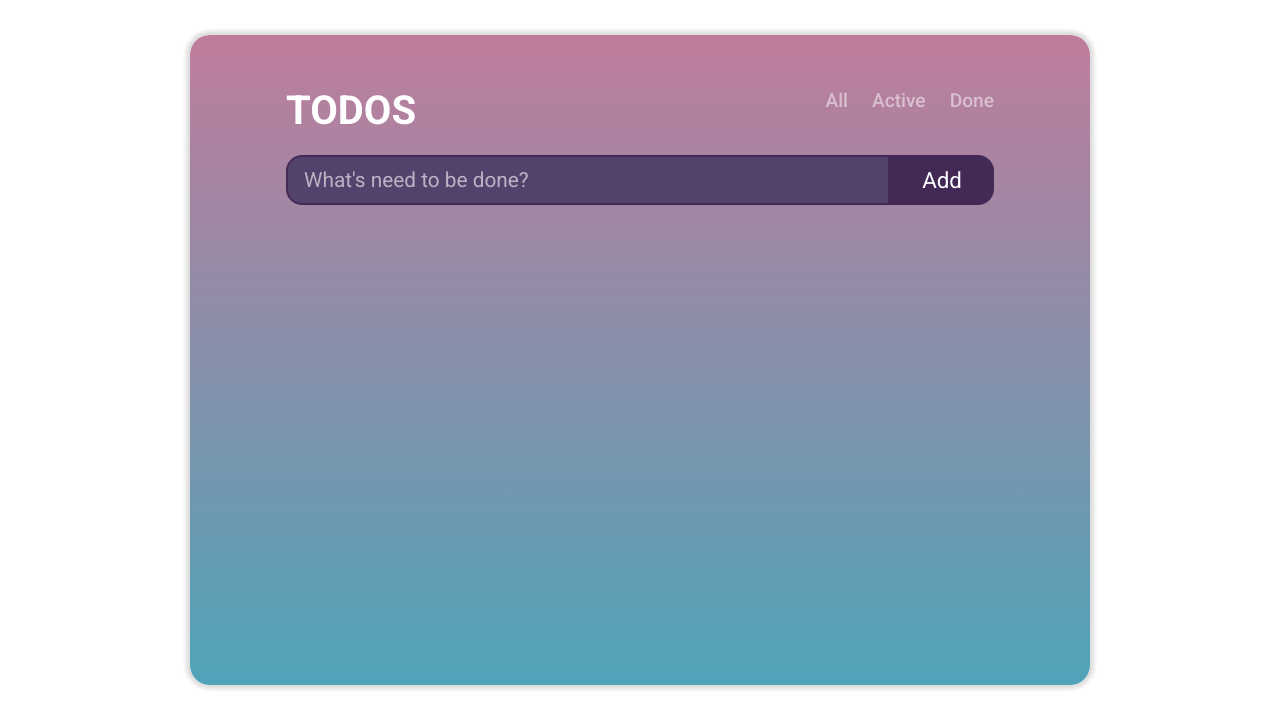
Navigation › List filtering
expect the text "Todo1" is not shown: met
Step 1. Type "Todo1" into the field with test id "add-todo-input" → point(588, 180), box x1=286 y1=155 x2=890 y2=205
Step 2. Click the button with test id "add-todo-btn" → point(942, 180), box x1=890 y1=155 x2=994 y2=205
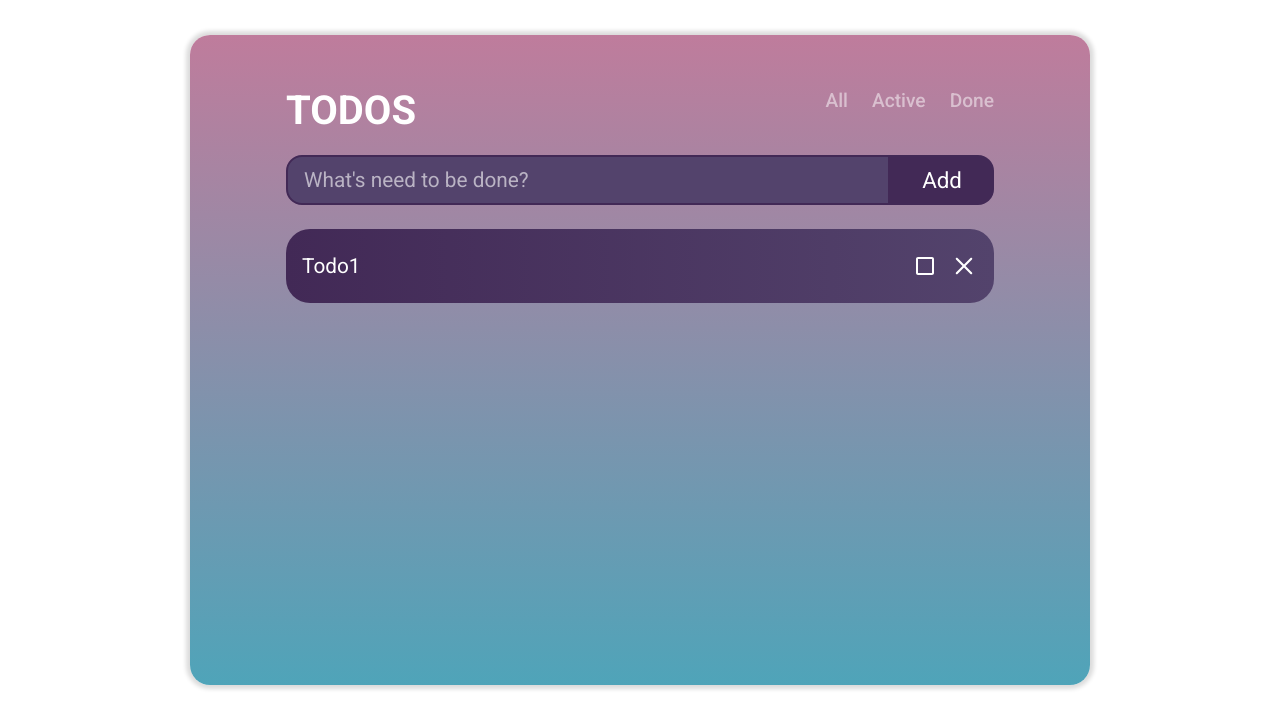
expect the text "Todo2" is not shown: met
expect the list item "Todo1" is shown: met, box x1=286 y1=229 x2=994 y2=303
Step 3. Type "Todo2" into the field with test id "add-todo-input" → point(588, 180), box x1=286 y1=155 x2=890 y2=205
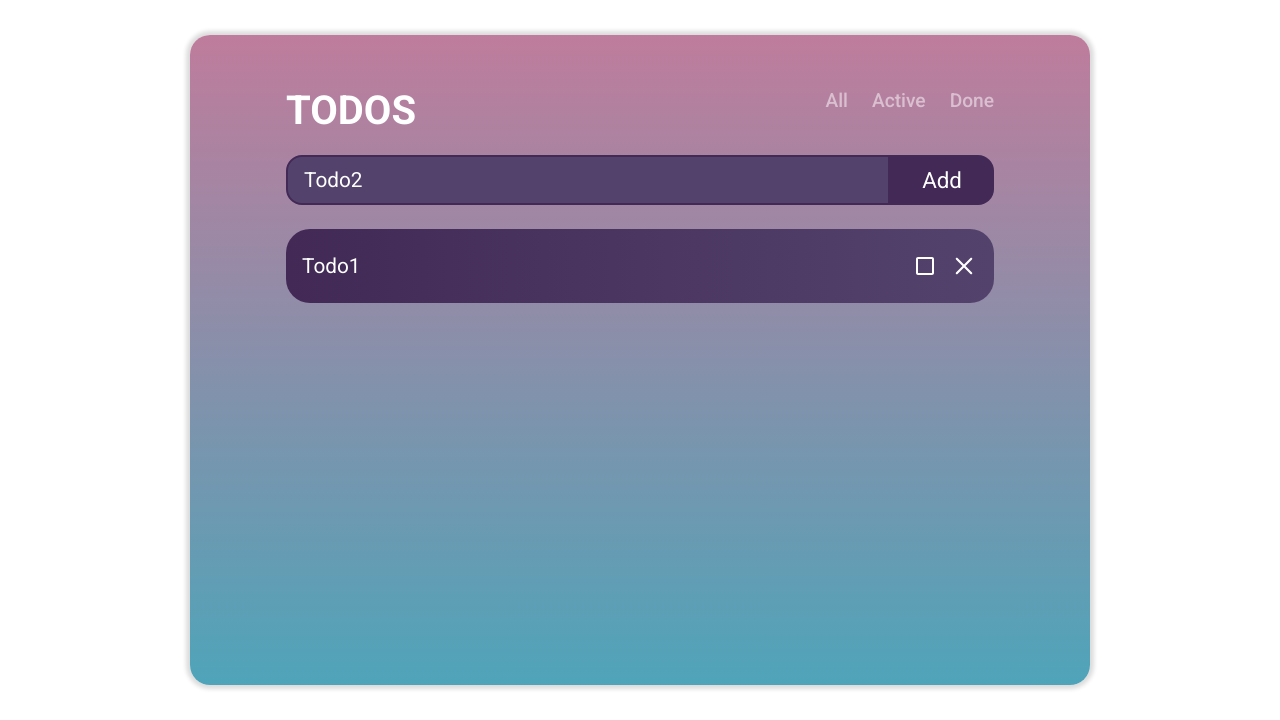
Step 4. Click the button with test id "add-todo-btn" → point(942, 180), box x1=890 y1=155 x2=994 y2=205
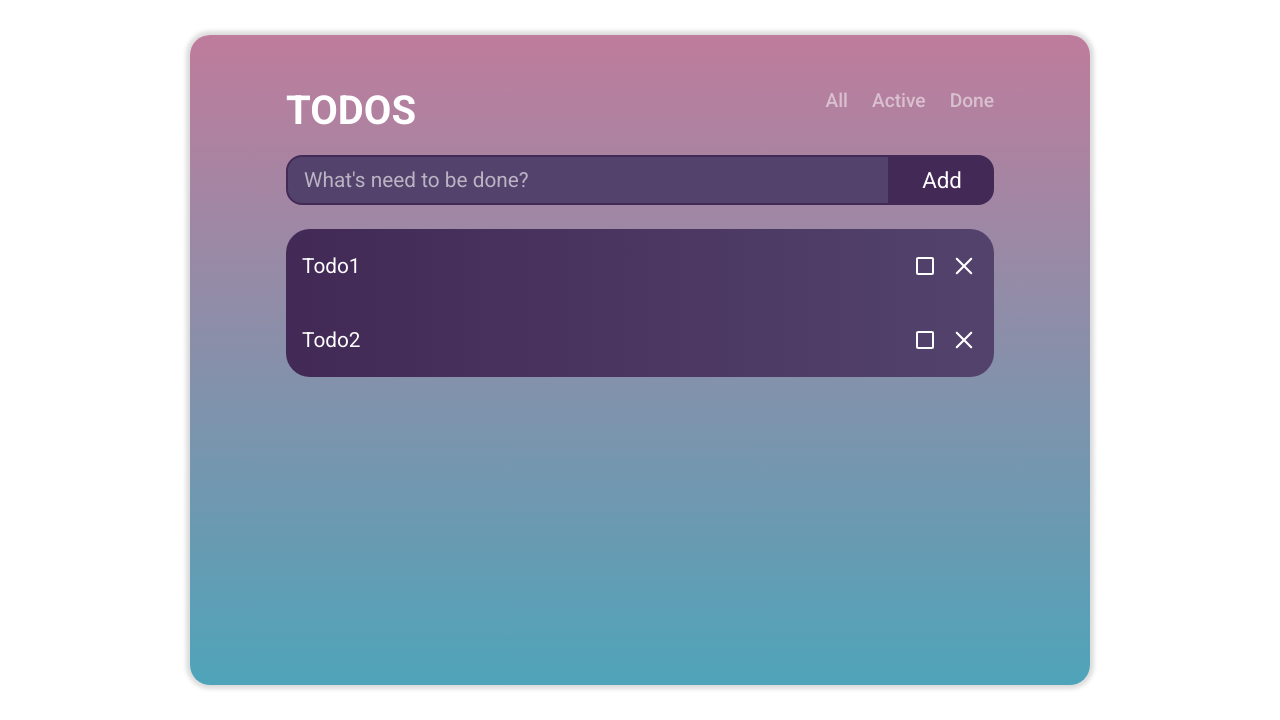
expect the list item "Todo2" is shown: met, box x1=286 y1=303 x2=994 y2=377
Step 5. Click the checkbox in the row of "Todo1" → point(925, 266), box x1=913 y1=254 x2=937 y2=278
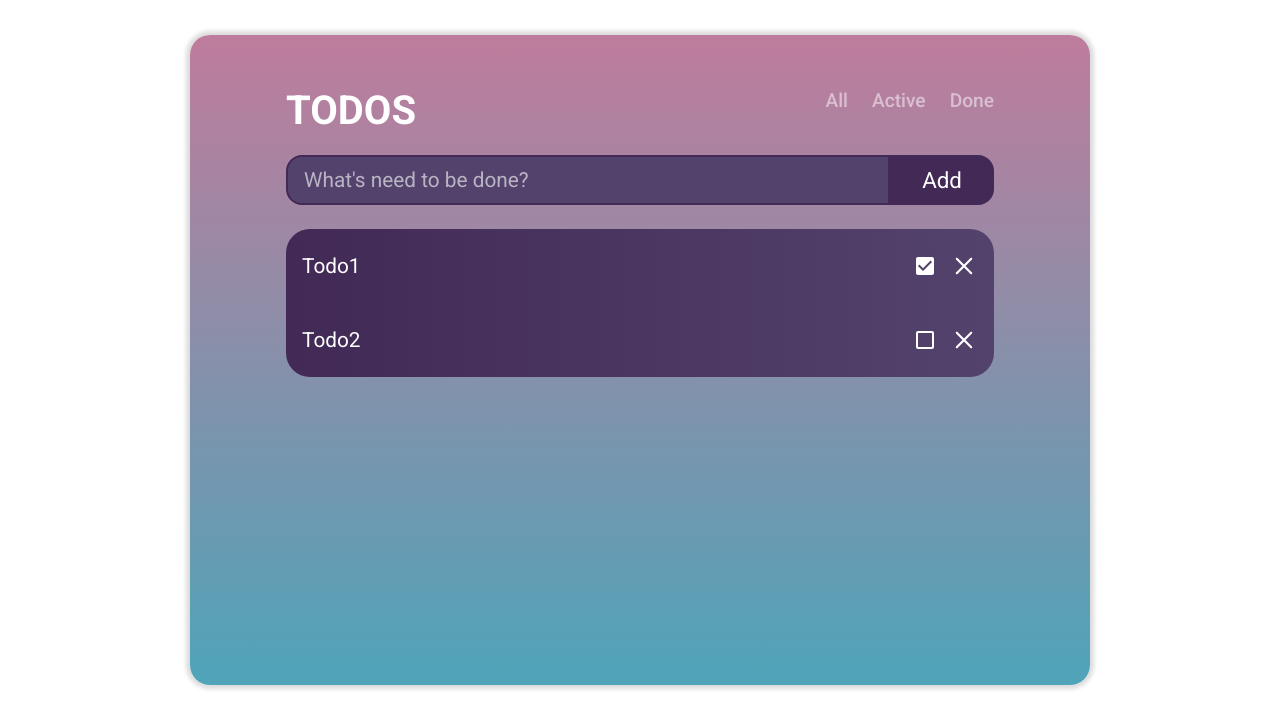
Step 6. Click the text "Done" → point(972, 100), box x1=950 y1=89 x2=994 y2=112
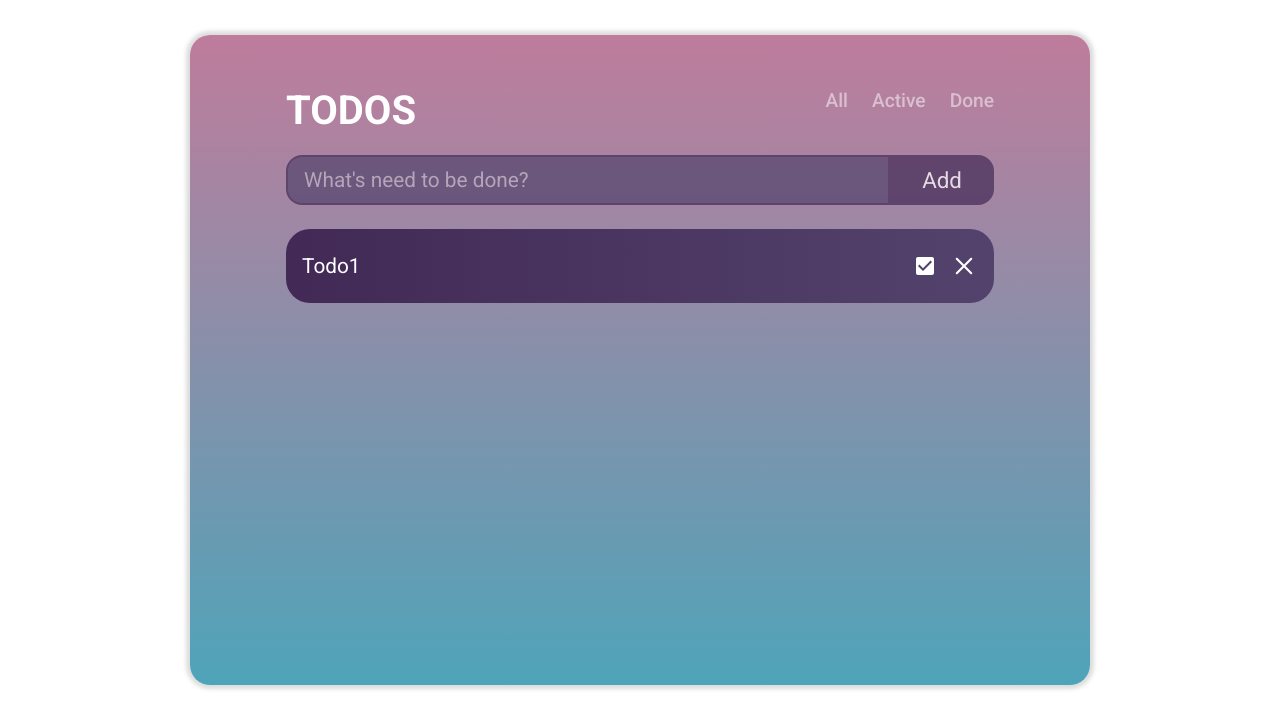
expect the list item "Todo1" is shown: met, box x1=286 y1=229 x2=994 y2=303
expect the list item "Todo2" is gone: met
Step 7. Click the text "Active" → point(899, 100), box x1=872 y1=89 x2=926 y2=112
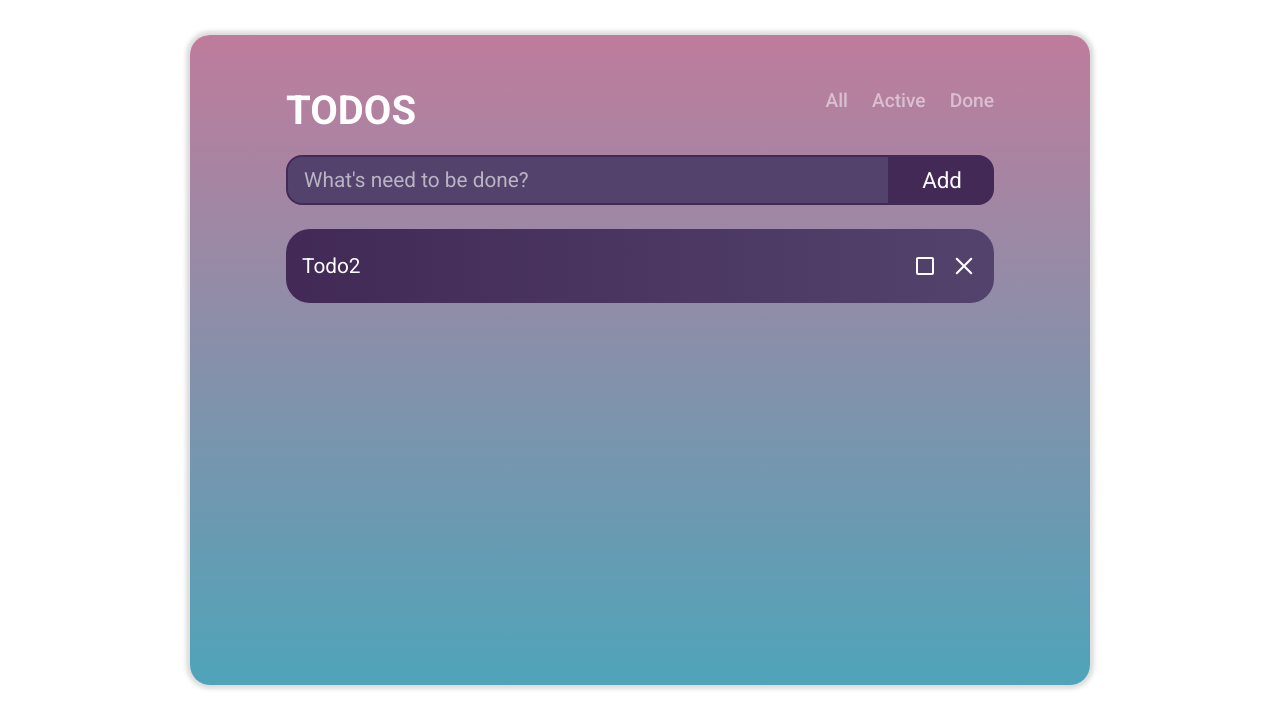
expect the list item "Todo2" is shown: met, box x1=286 y1=229 x2=994 y2=303
expect the list item "Todo1" is gone: met
